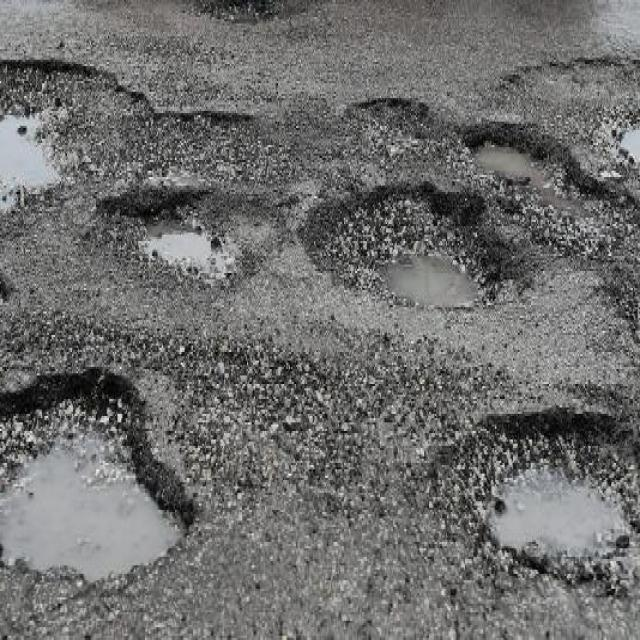pothole: (1, 360, 203, 584), (416, 396, 640, 586), (1, 55, 263, 190), (302, 177, 519, 320), (469, 115, 640, 281), (86, 183, 286, 294), (500, 51, 640, 111), (346, 92, 441, 143)
